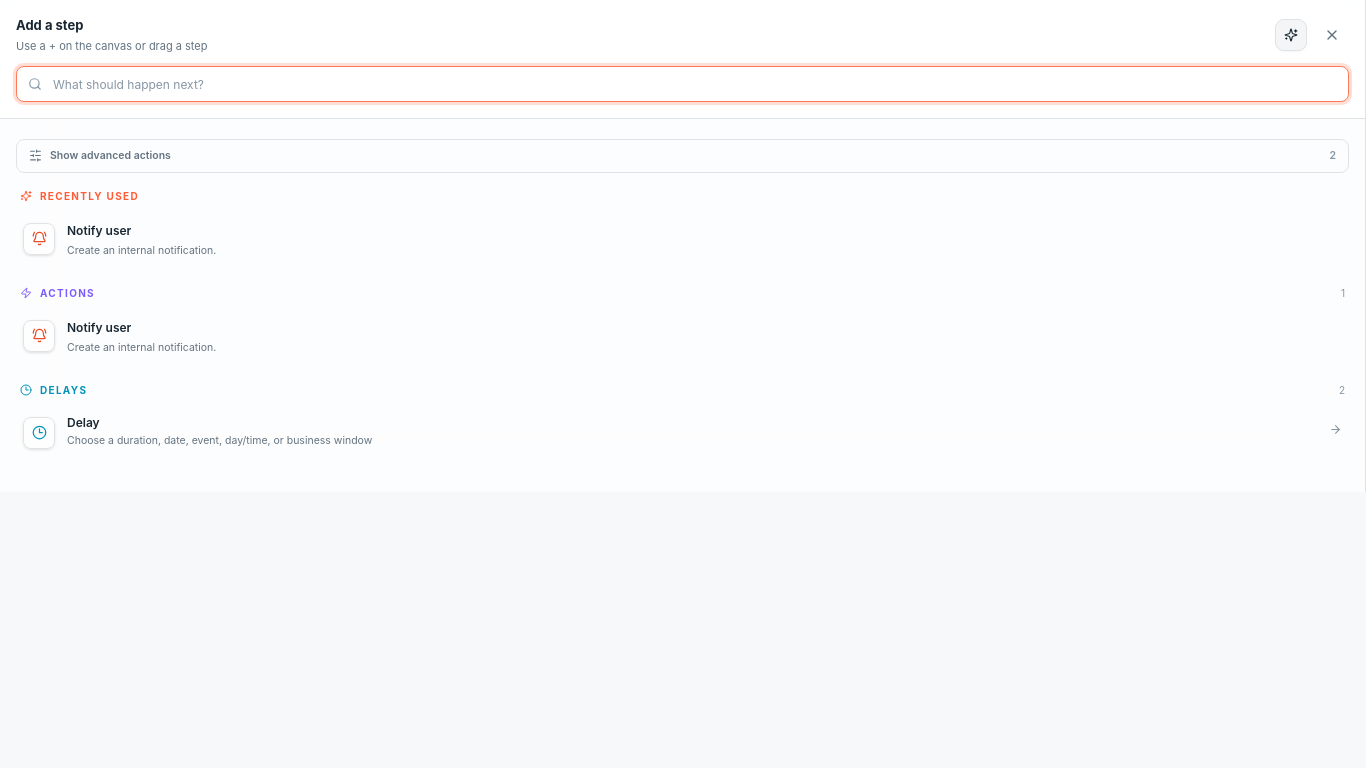
Test case: NodeCatalog UI states › keeps uncommon actions behind one advanced control and explains unavailable actions
expect the button "Copy record" is not shown: met
Click the button "Show advanced actions 2". click: (110, 156)
box: [16,139,1349,173]
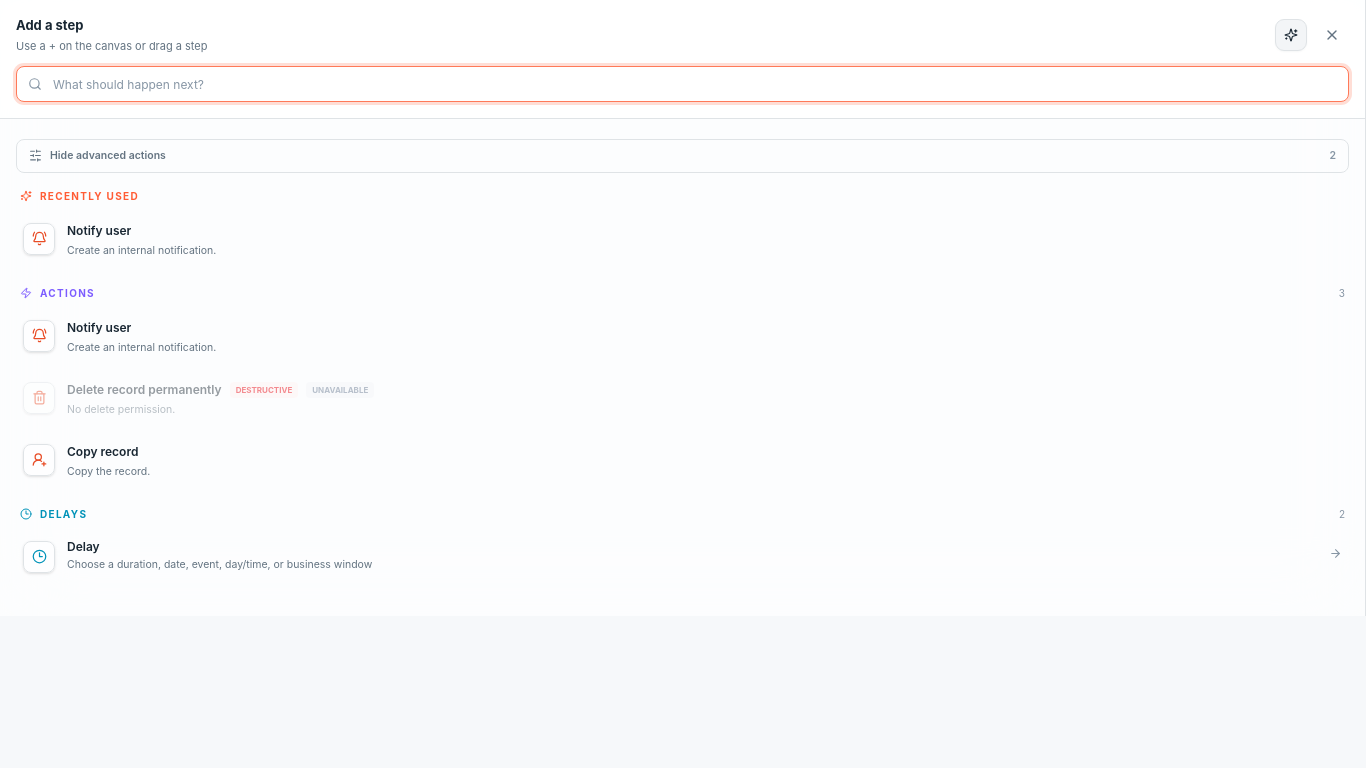
expect the button "Copy record Copy the record." is enabled: met, box [12,431,1353,491]
expect the button "Delete record permanently" is disabled: met, box [12,369,1353,429]
expect the text "No delete permission." is shown: met, box [67,403,175,416]
